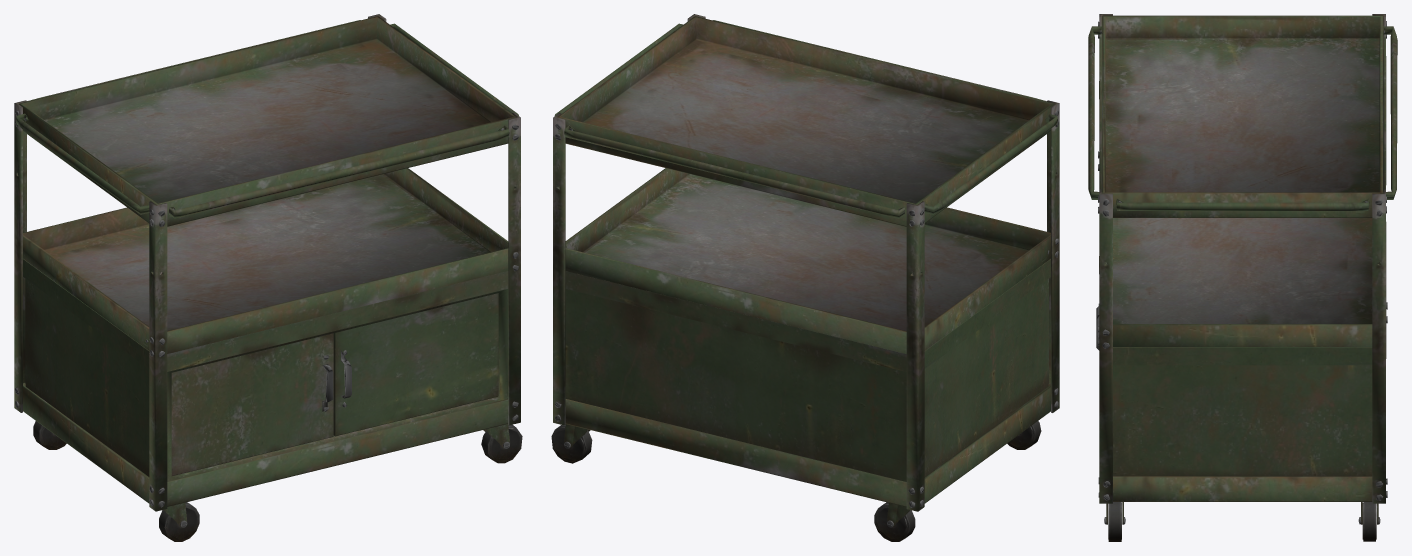
Rendered from industrial_storage_cart.glb.
3 renders of one model, left to right at view 1: azimuth 30°, elevation 25°; view 2: azimuth 150°, elevation 25°; view 3: azimuth 270°, elevation 25°, orthographic.
Visible parts, largest first — view 1: industrial_storage_cart; view 2: industrial_storage_cart; view 3: industrial_storage_cart.
Boxes of the visible parts, left/top/right/bottom form: industrial_storage_cart: left=14, top=14, right=522, bottom=541; industrial_storage_cart: left=551, top=14, right=1059, bottom=541; industrial_storage_cart: left=1088, top=14, right=1397, bottom=541.
Bounding box in the file's own units: 1.6 × 1.38 × 1.1.
1 material, 1 textured.
